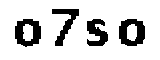7: (49, 5, 81, 49)
o: (117, 17, 148, 48), (12, 18, 43, 48)
s: (84, 18, 108, 51)
